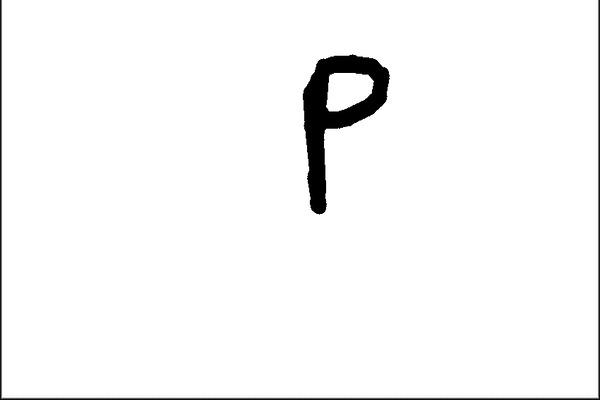P: (297, 46, 393, 226)
